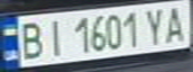0: (103, 11, 127, 51)
1: (69, 12, 93, 54), (121, 8, 145, 48)
6: (87, 11, 109, 52)
A: (160, 2, 193, 44)
B: (15, 18, 48, 61)
I: (39, 16, 69, 57)
Y: (139, 4, 172, 46)
